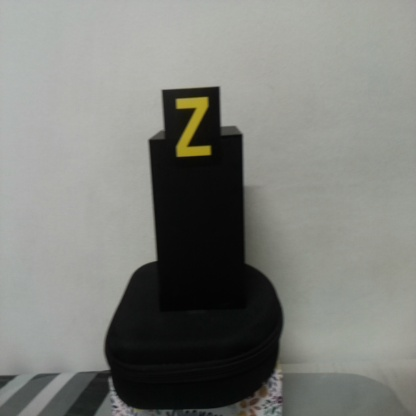id_15: (163, 90, 222, 165)
